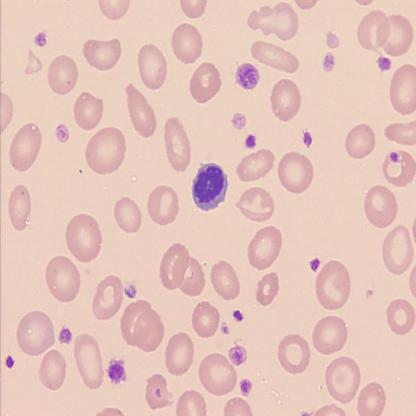NRC: (191, 160, 228, 212)
